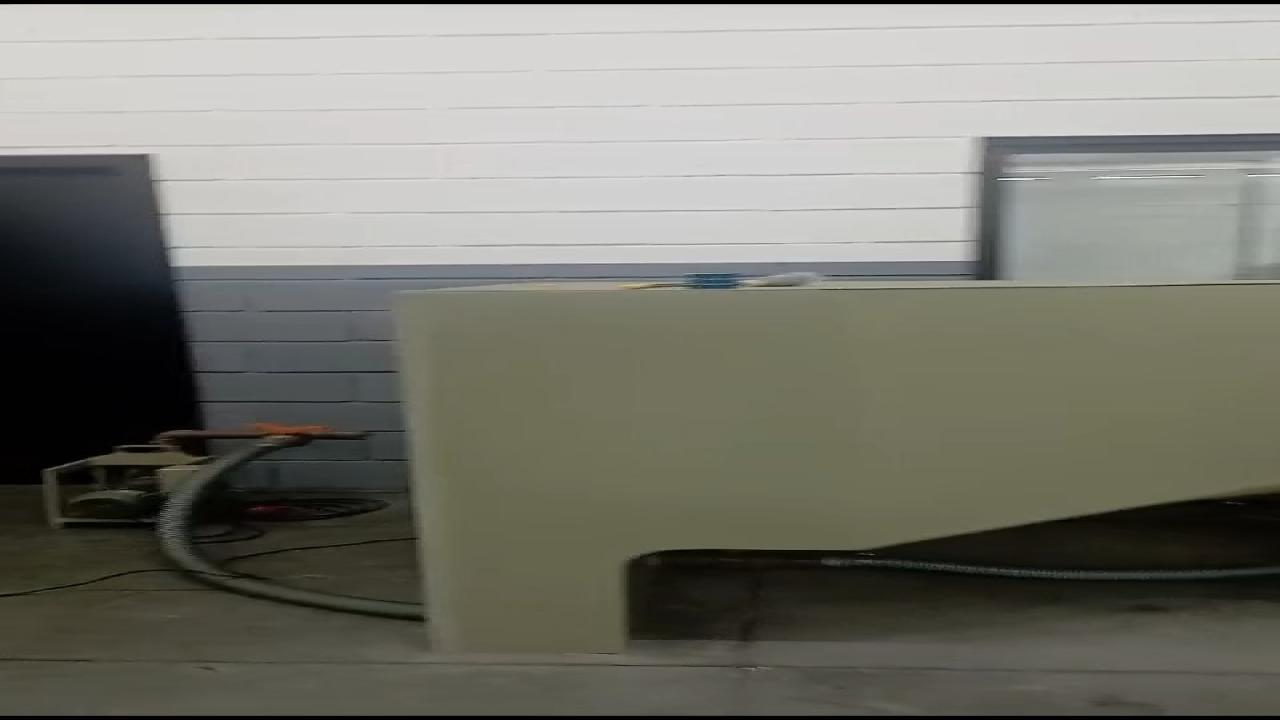Cube: (686, 273, 740, 289)
